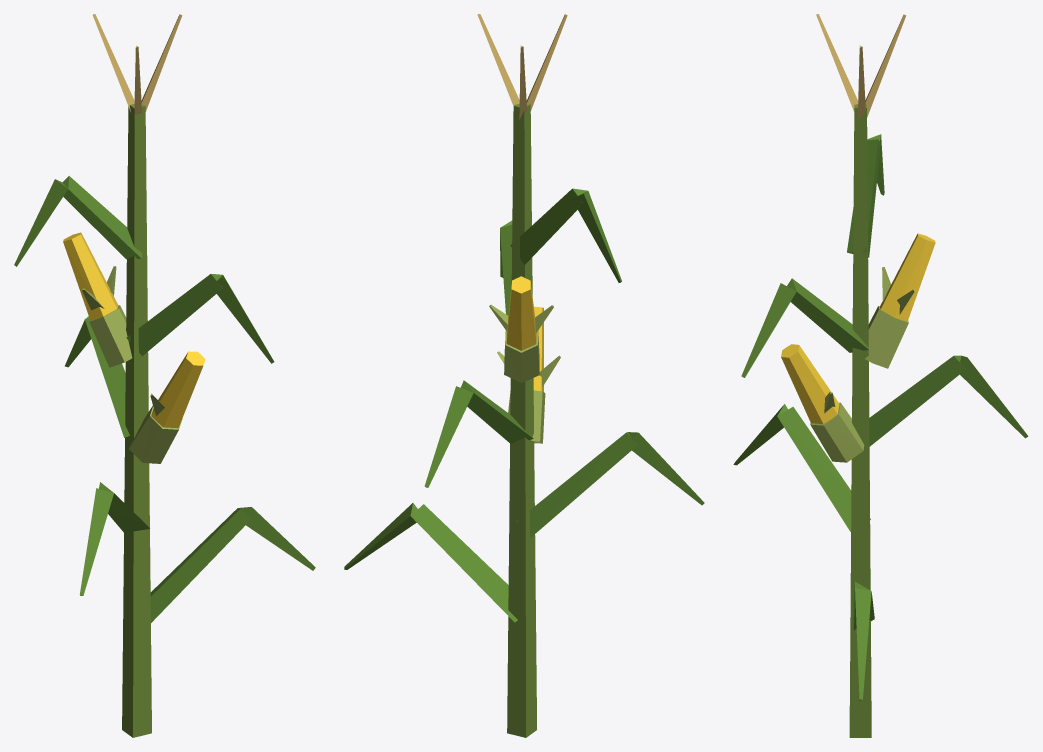
Rendered from field_corn_2.obj.
3 views of the same model, side by side, from view 1: azimuth 30°, elevation 25°; view 2: azimuth 150°, elevation 25°; view 3: azimuth 270°, elevation 25° (orthographic).
Parts seen in each view (by area): view 1: Leaf, Stalk, Cob, Cob.Husk, Tassel; view 2: Leaf, Stalk, Cob.Husk, Cob, Tassel; view 3: Leaf, Stalk, Cob, Cob.Husk, Tassel.
Boxes of the visible parts, x1,y1,x2,y2 form: Leaf: [14, 176, 315, 622]; Stalk: [122, 104, 151, 737]; Cob: [63, 232, 205, 428]; Cob.Husk: [82, 266, 182, 463]; Tassel: [92, 14, 182, 116]; Leaf: [344, 188, 704, 622]; Stalk: [507, 104, 536, 737]; Cob.Husk: [489, 304, 560, 443]; Cob: [506, 276, 543, 391]; Tassel: [477, 14, 567, 119]; Leaf: [733, 134, 1028, 700]; Stalk: [849, 104, 871, 737]; Cob: [781, 233, 935, 424]; Cob.Husk: [810, 267, 915, 462]; Tassel: [816, 14, 906, 119].
Size of the model in its own units: 1.1 by 2.48 by 0.937.
